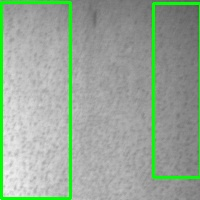pitted_surface: (1, 2, 70, 198), (153, 3, 200, 177)
